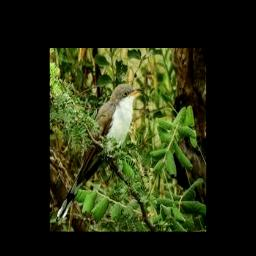Cuckoo: (56, 84, 144, 219)
